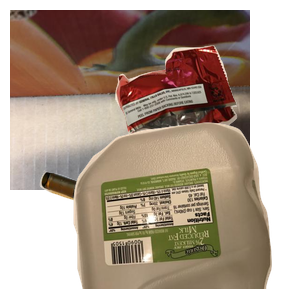cardboard: (10, 10, 250, 190)
glass: (37, 168, 242, 300)
plastic: (71, 120, 300, 300)
trash: (113, 43, 300, 181)
